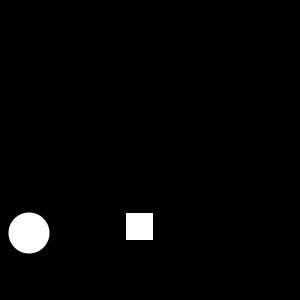circle: (126, 213, 153, 240)
rectangle: (8, 212, 49, 254)
